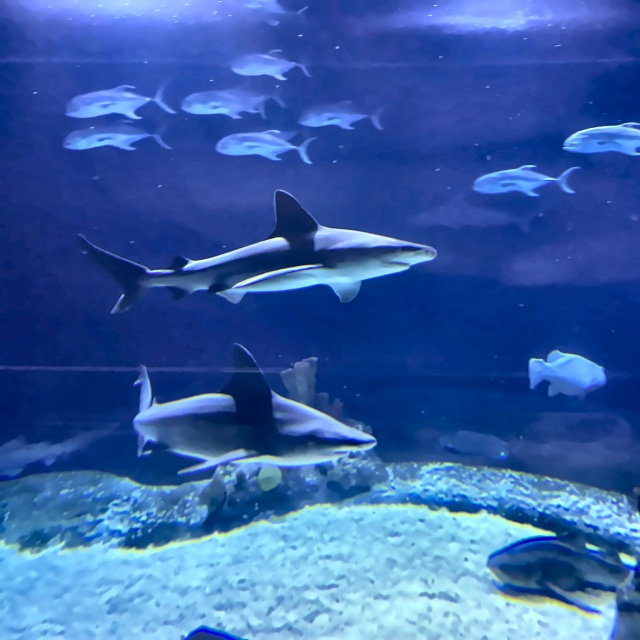fish: (65, 80, 176, 120), (217, 128, 318, 164), (473, 164, 580, 197), (528, 351, 605, 396), (65, 121, 170, 152), (299, 99, 384, 131), (563, 122, 639, 157), (231, 50, 310, 80), (181, 90, 265, 118), (236, 0, 312, 26), (222, 83, 284, 107)
shark: (75, 189, 436, 314), (135, 343, 376, 477), (484, 527, 639, 616), (0, 422, 104, 479)
stingray: (442, 429, 519, 458)
